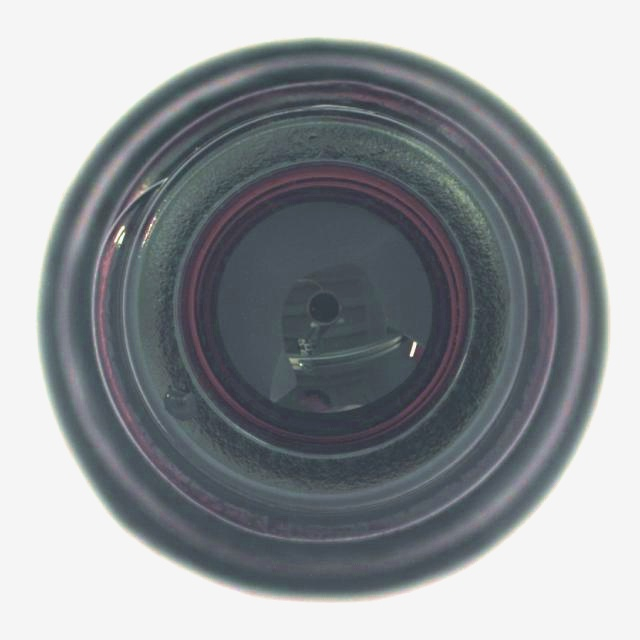bad-contamination: (34, 37, 613, 606)
